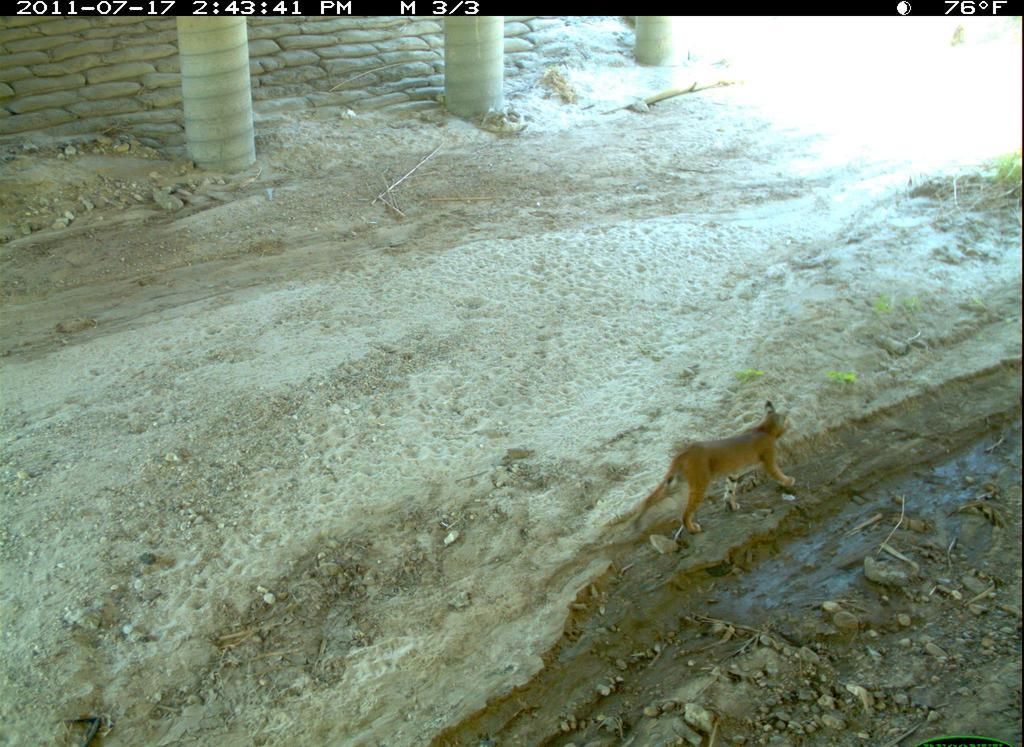bobcat: (635, 396, 808, 547)
